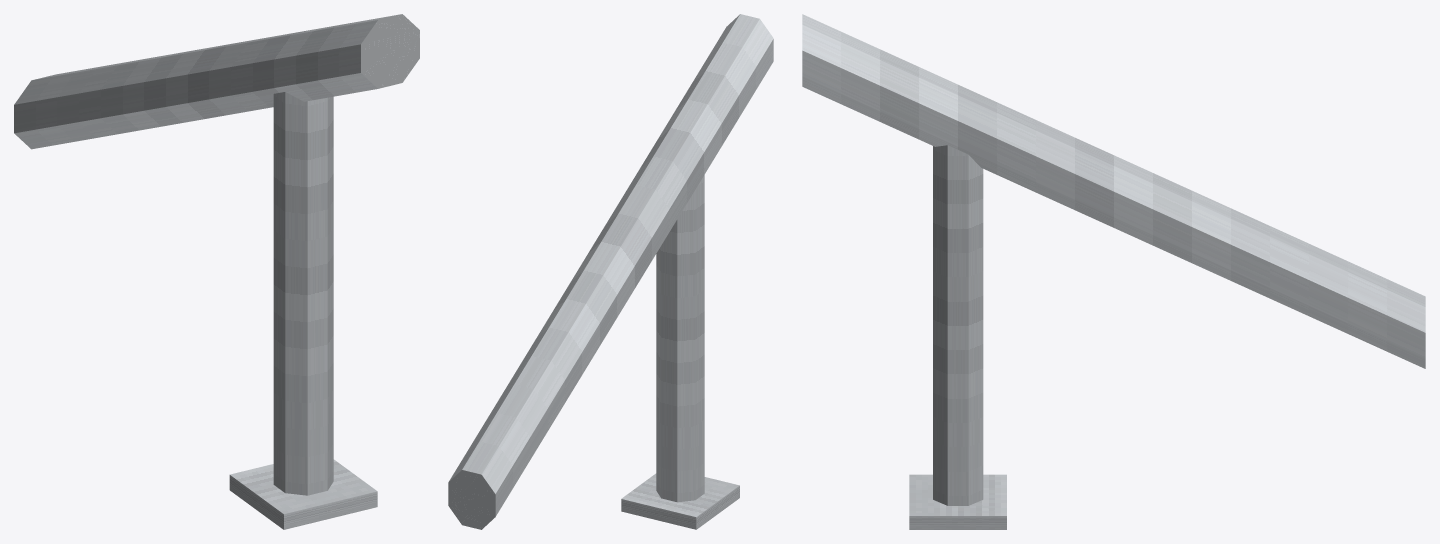
Rendered from handrail_shallow_high.obj.
3 views of the same model, side by side, from view 1: azimuth 30°, elevation 25°; view 2: azimuth 150°, elevation 25°; view 3: azimuth 270°, elevation 25° (orthographic). The views are drawn at different scales.
Visible parts, largest first — view 1: handrail_shallow_high; view 2: handrail_shallow_high; view 3: handrail_shallow_high.
Boxes of the visible parts, left/top/right/bottom form: handrail_shallow_high: left=14, top=14, right=419, bottom=529; handrail_shallow_high: left=448, top=14, right=773, bottom=529; handrail_shallow_high: left=802, top=14, right=1425, bottom=529.
Bounding box in the file's own units: 0.1562 × 0.8674 × 1.
